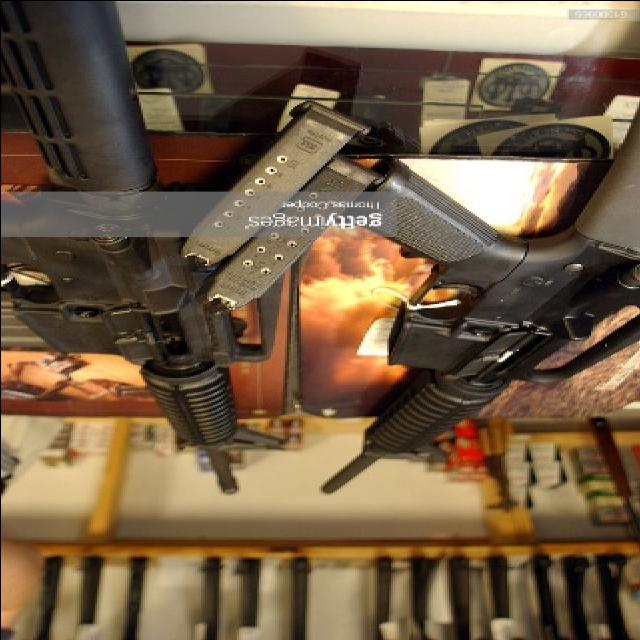rifle: (5, 2, 285, 526), (317, 101, 640, 509)
